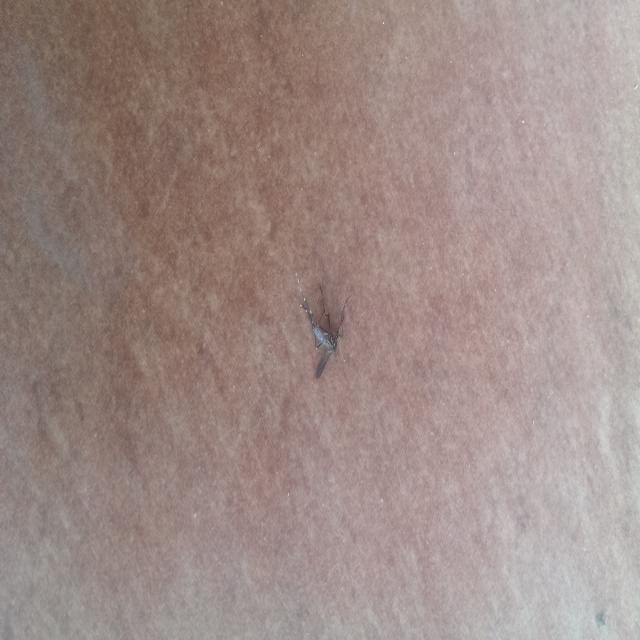albopictus: (288, 265, 356, 380)
